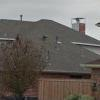Chimney: (65, 12, 100, 41)
